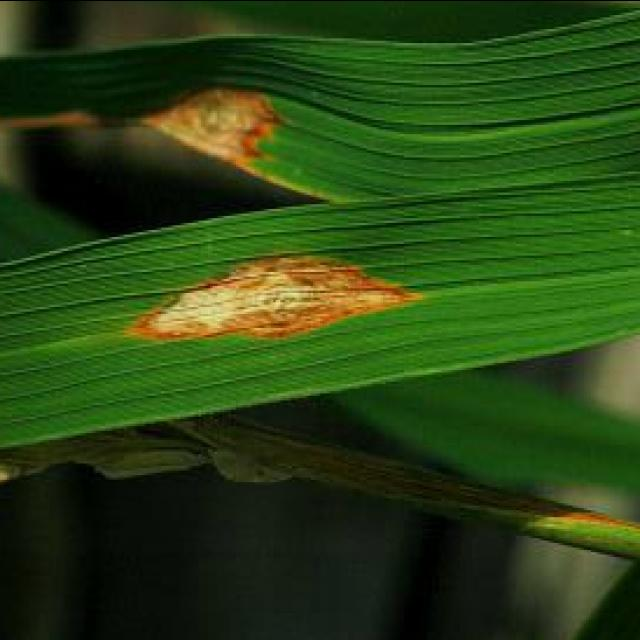Leaf_Blast: (103, 245, 444, 383), (126, 44, 287, 194)
